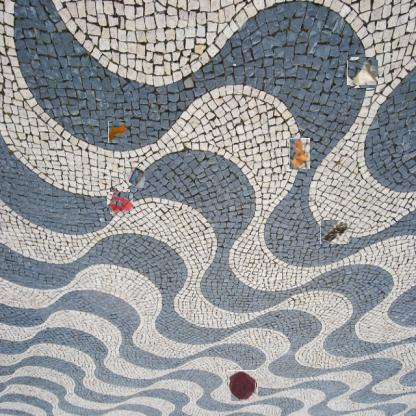dirty: (349, 58, 377, 87), (322, 219, 348, 246), (289, 138, 310, 169), (123, 166, 145, 188), (108, 121, 127, 143)
liquid: (228, 371, 257, 401), (109, 190, 132, 213)
